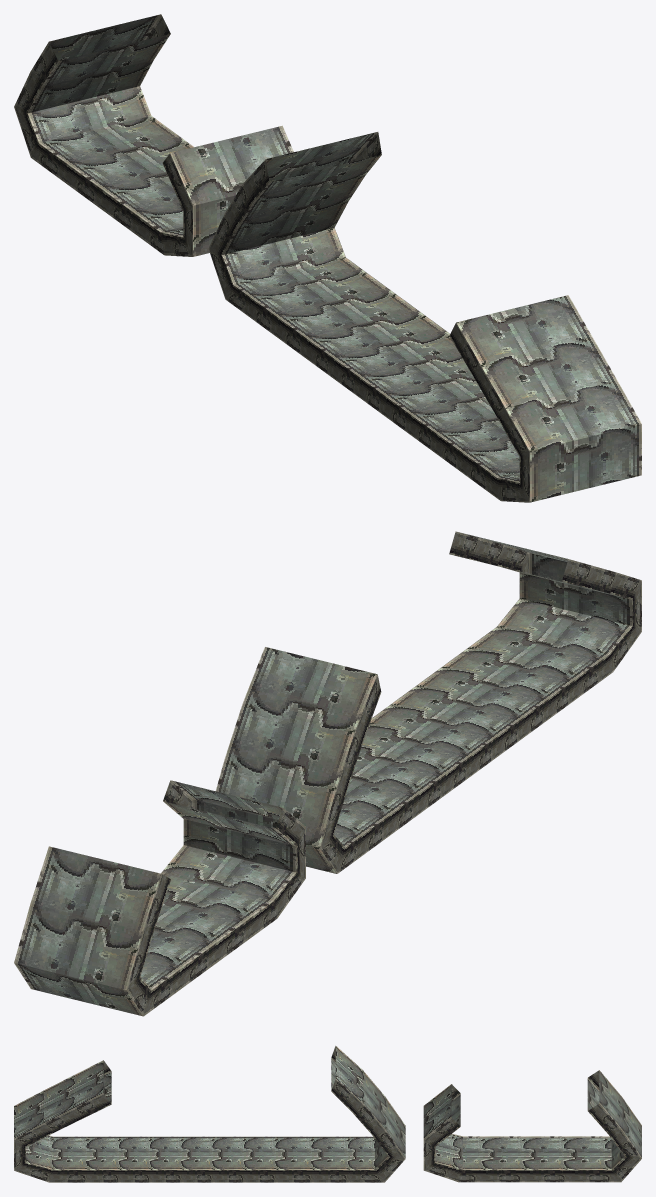
File: VXBSTA_TRACK_R.bgf.obj
The picture shows the model from 3 angles, top to bottom: view 1: azimuth 30°, elevation 25°; view 2: azimuth 150°, elevation 25°; view 3: azimuth 270°, elevation 25°; orthographic projection. The views are drawn at different scales.
Parts seen in each view (by area): view 1: R_TRACK_A; view 2: R_TRACK_A; view 3: R_TRACK_A.
Boxes of the visible parts, <box> form: R_TRACK_A: <box>14,14,641,502</box>; R_TRACK_A: <box>14,531,641,1016</box>; R_TRACK_A: <box>14,1046,641,1182</box>.
Size of the model in its own units: 1.5 by 2.15 by 11.83.
Materials: 1 (1 with a texture image).
